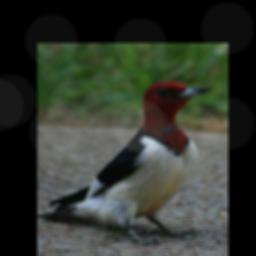Woodpecker: (37, 80, 217, 244)
